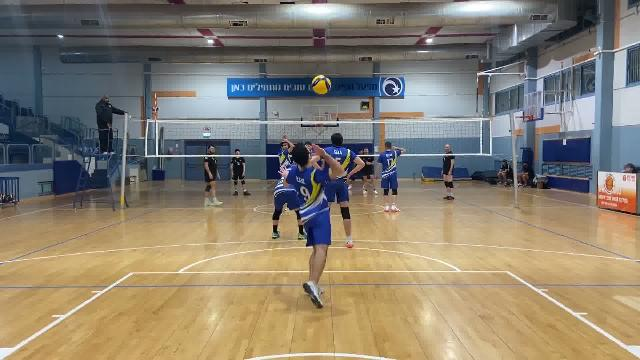ball: (308, 73, 334, 97)
